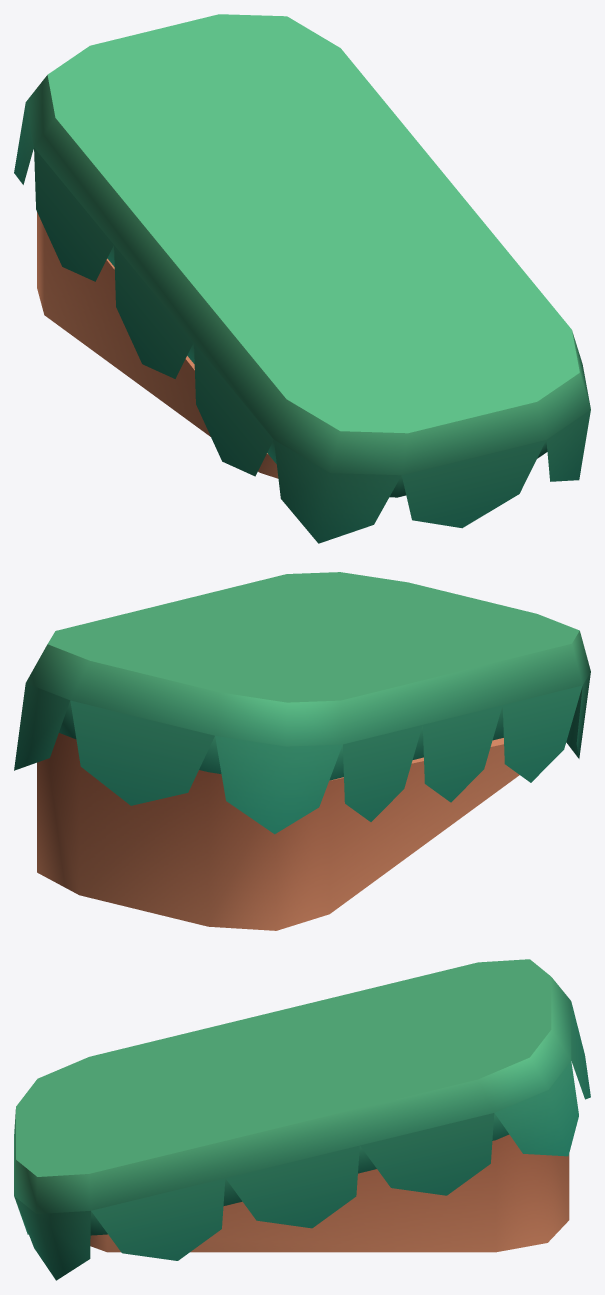
The model's file is block_grass_overhang_large_slope_narrow.glb.
The picture shows the model from 3 angles, top to bottom: view 1: azimuth 30°, elevation 25°; view 2: azimuth 150°, elevation 25°; view 3: azimuth 270°, elevation 25°; orthographic projection. The views are drawn at different scales.
Visible parts, largest first — view 1: block-grass-overhang-large-slope-narrow; view 2: block-grass-overhang-large-slope-narrow; view 3: block-grass-overhang-large-slope-narrow.
Part boxes in pixels (bbox=[...]): block-grass-overhang-large-slope-narrow: bbox=[14, 14, 590, 543]; block-grass-overhang-large-slope-narrow: bbox=[14, 572, 590, 930]; block-grass-overhang-large-slope-narrow: bbox=[14, 959, 590, 1280].
Size of the model in its own units: 1.08 by 0.9144 by 2.08.
1 material, 1 textured.
